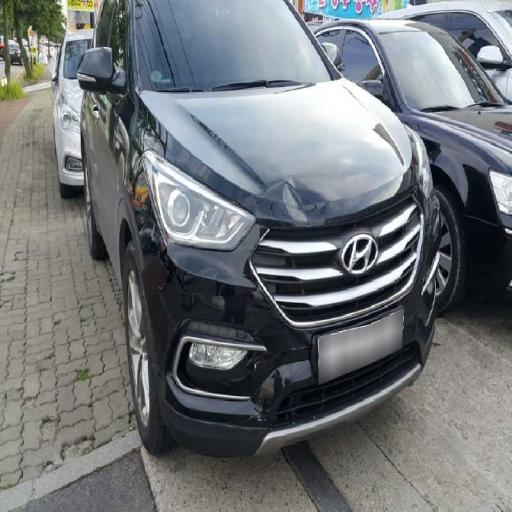dent: (126, 117, 386, 284)
